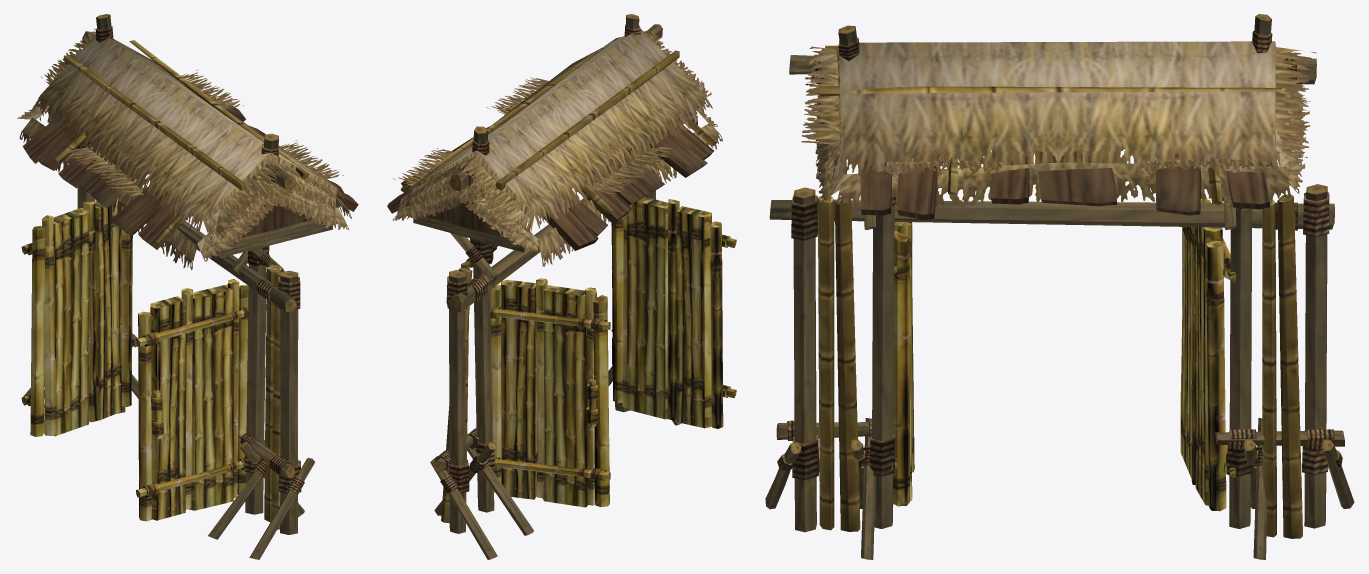
The model's file is Building08.FBX.
The picture shows the model from 3 angles, left to right: view 1: azimuth 30°, elevation 25°; view 2: azimuth 150°, elevation 25°; view 3: azimuth 270°, elevation 25°; orthographic projection. The views are drawn at different scales.
Parts seen in each view (by area): view 1: shuyoco_3_004; view 2: shuyoco_3_004; view 3: shuyoco_3_004.
Part boxes in pixels (bbox=[...]): shuyoco_3_004: bbox=[17, 14, 358, 559]; shuyoco_3_004: bbox=[387, 14, 736, 559]; shuyoco_3_004: bbox=[765, 14, 1354, 559].
Size of the model in its own units: 873 by 1537 by 1579.
